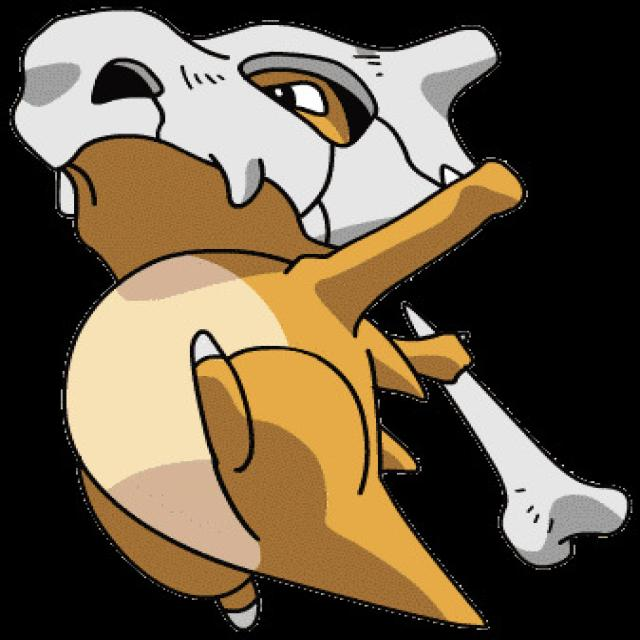Cubone: (18, 9, 514, 618)
